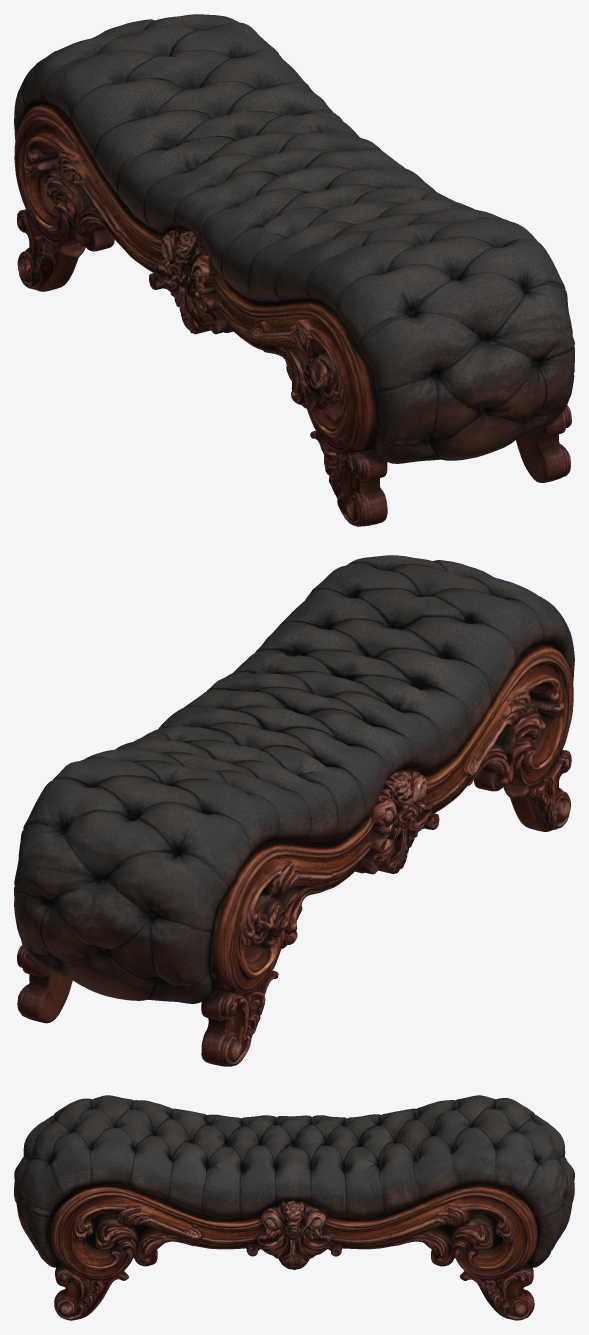
File: sofa1.glb
3 views of the same model, one above another, from view 1: azimuth 30°, elevation 25°; view 2: azimuth 150°, elevation 25°; view 3: azimuth 270°, elevation 25° (orthographic). The views are drawn at different scales.
Parts seen in each view (by area): view 1: tripo_node_3963b49e-b6bf-4b14-85df-6ecf5421f3c7_0; view 2: tripo_node_3963b49e-b6bf-4b14-85df-6ecf5421f3c7_0; view 3: tripo_node_3963b49e-b6bf-4b14-85df-6ecf5421f3c7_0.
Boxes of the visible parts, x1,y1,x2,y2 form: tripo_node_3963b49e-b6bf-4b14-85df-6ecf5421f3c7_0: (14,14,574,526); tripo_node_3963b49e-b6bf-4b14-85df-6ecf5421f3c7_0: (14,555,574,1066); tripo_node_3963b49e-b6bf-4b14-85df-6ecf5421f3c7_0: (14,1095,574,1320).
Size of the model in its own units: 0.3338 by 0.3337 by 1.
1 material, 1 textured.
